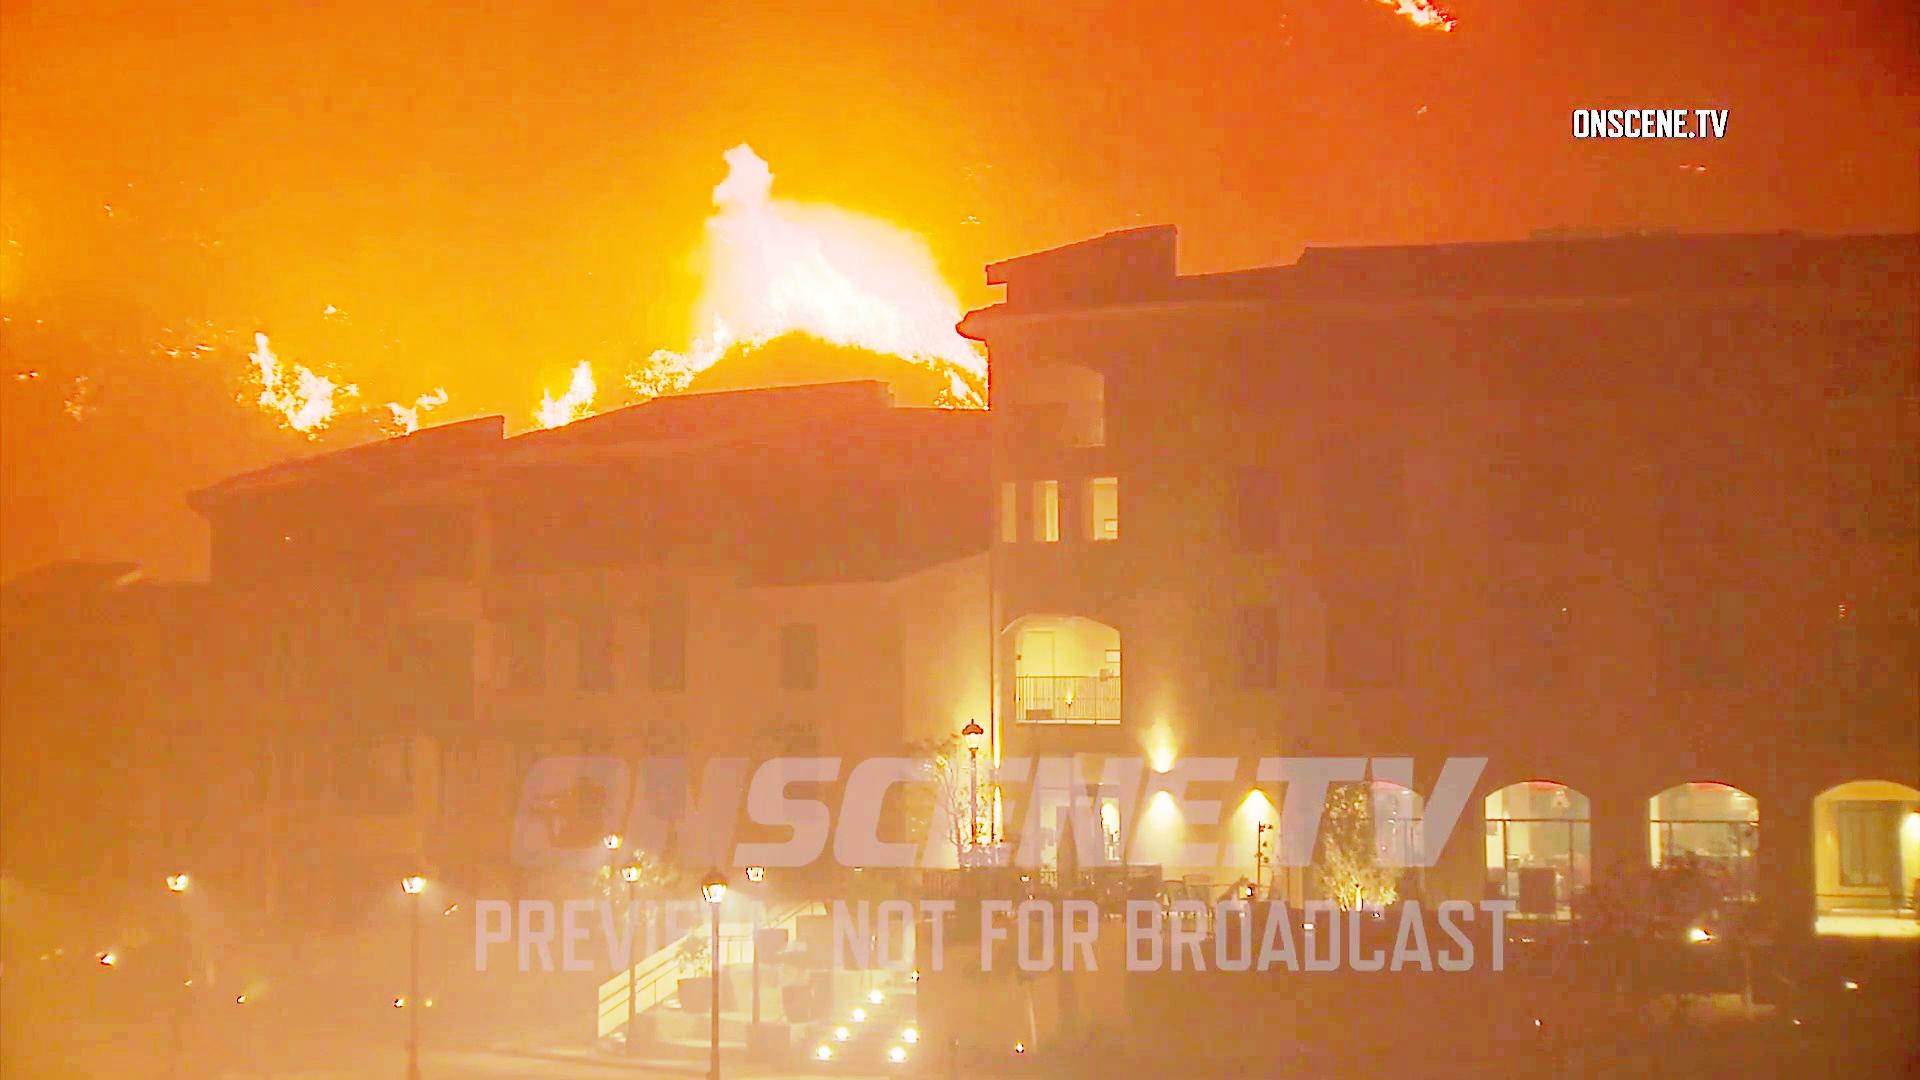fire: (705, 150, 961, 405), (245, 351, 442, 440)
